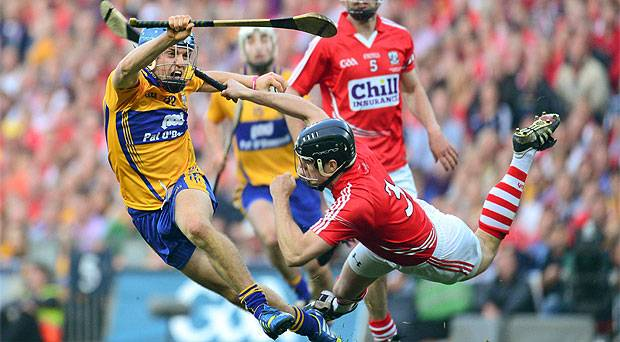hurley: (130, 10, 337, 38)
